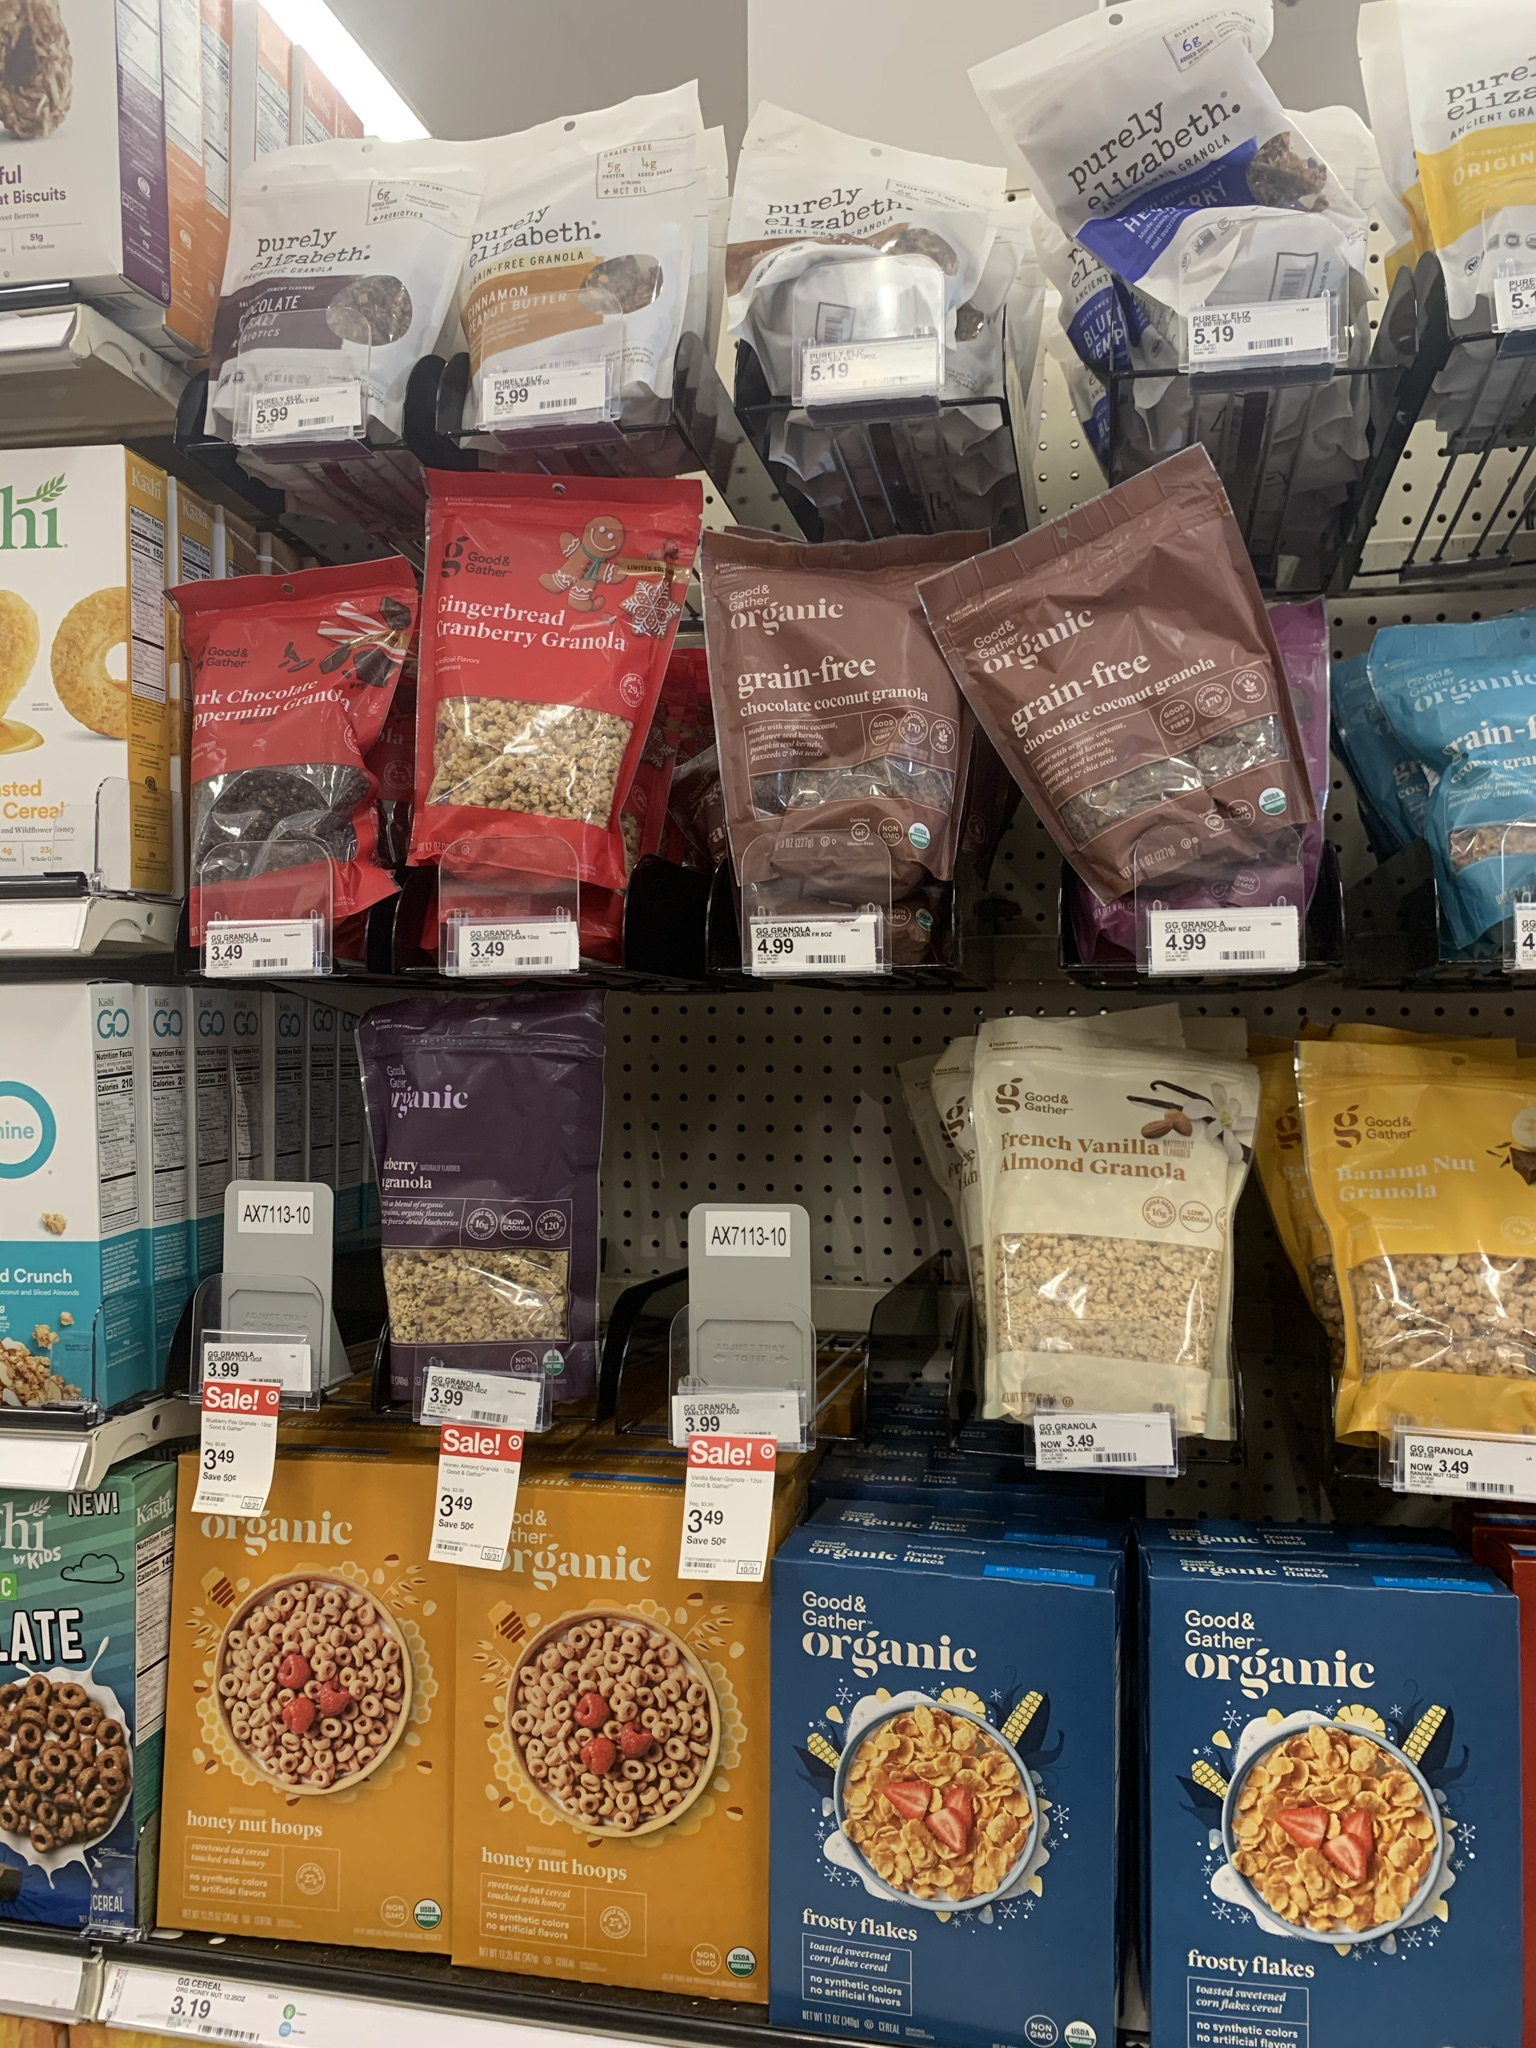Cereal good and gather: (1170, 1596, 1534, 2048), (461, 1484, 774, 2004), (792, 1574, 1107, 2042), (194, 1456, 453, 1950)
Nuts: (979, 579, 1325, 942), (432, 485, 670, 959), (703, 561, 963, 959), (984, 1030, 1244, 1419), (1016, 74, 1402, 314), (373, 1050, 616, 1405), (187, 610, 402, 993), (762, 131, 992, 456), (1325, 1064, 1536, 1405), (242, 179, 424, 484), (492, 176, 697, 435)
